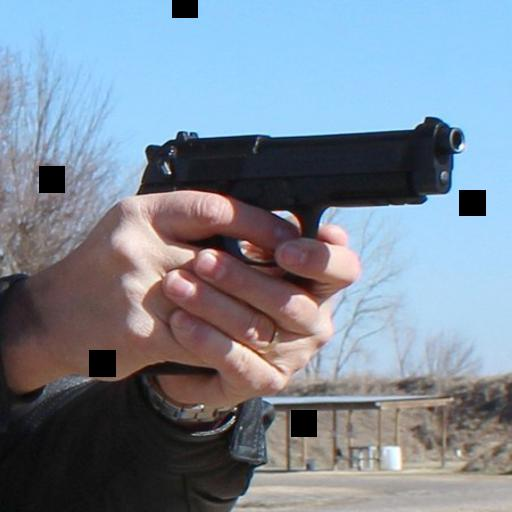Handgun: (134, 113, 465, 376)
